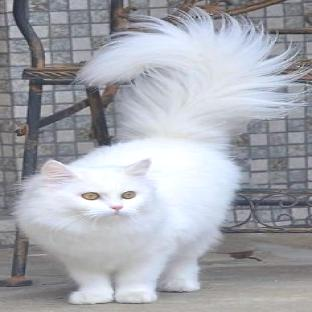Animal: (15, 9, 308, 304)
